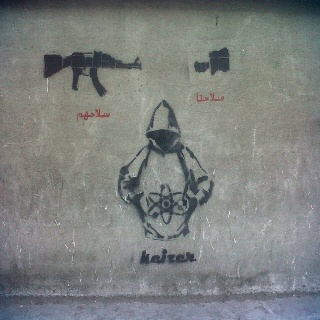rifle: (41, 46, 143, 100)
